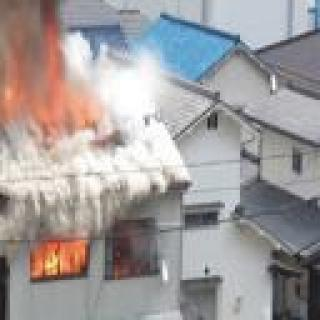fire: (0, 19, 107, 142), (37, 234, 94, 278), (0, 192, 10, 320)
